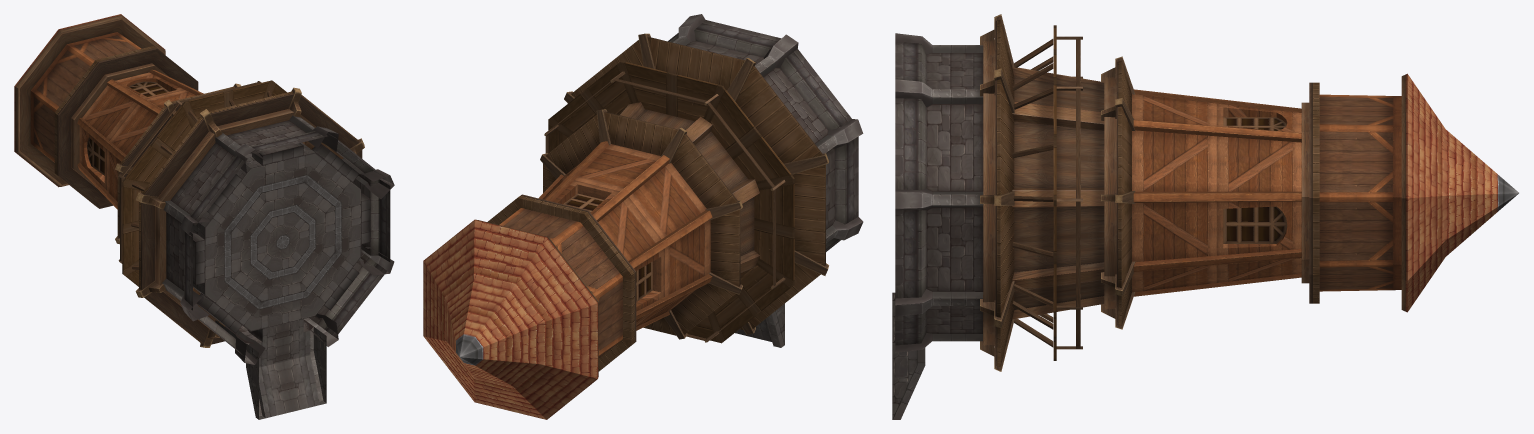
Rendered from Windmill.fbx.
3 views of the same model, side by side, from view 1: azimuth 30°, elevation 25°; view 2: azimuth 150°, elevation 25°; view 3: azimuth 270°, elevation 25° (orthographic). The views are drawn at different scales.
Visible parts, largest first — view 1: Windmill_LOD0; view 2: Windmill_LOD0; view 3: Windmill_LOD0.
Part boxes in pixels (x1,y1,x2,y2): Windmill_LOD0: (14, 14, 394, 419); Windmill_LOD0: (423, 14, 863, 419); Windmill_LOD0: (892, 14, 1518, 419).
Size of what is drawn, in the model's own units: 14.52 by 17.12 by 27.21.
